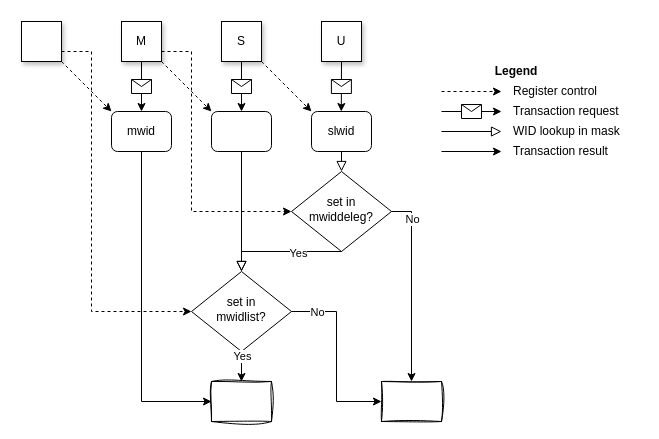
Image size: 659x439. Some labels were removed from this diagram. The centre of each missing label's shape, as x and y in pixels:
Emit: the point at 241,401
Fault: the point at 411,401
mlwid: the point at 241,131
RoT: the point at 42,42
